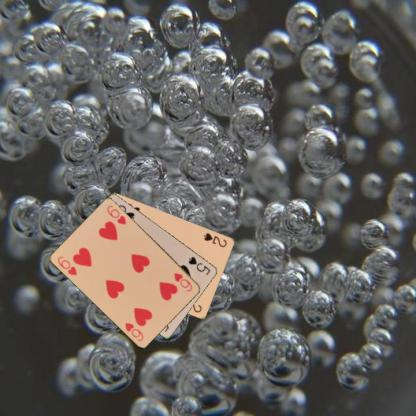2s: (201, 230, 228, 248)
5s: (186, 254, 212, 276)
6h: (172, 270, 194, 293), (55, 254, 78, 276)
